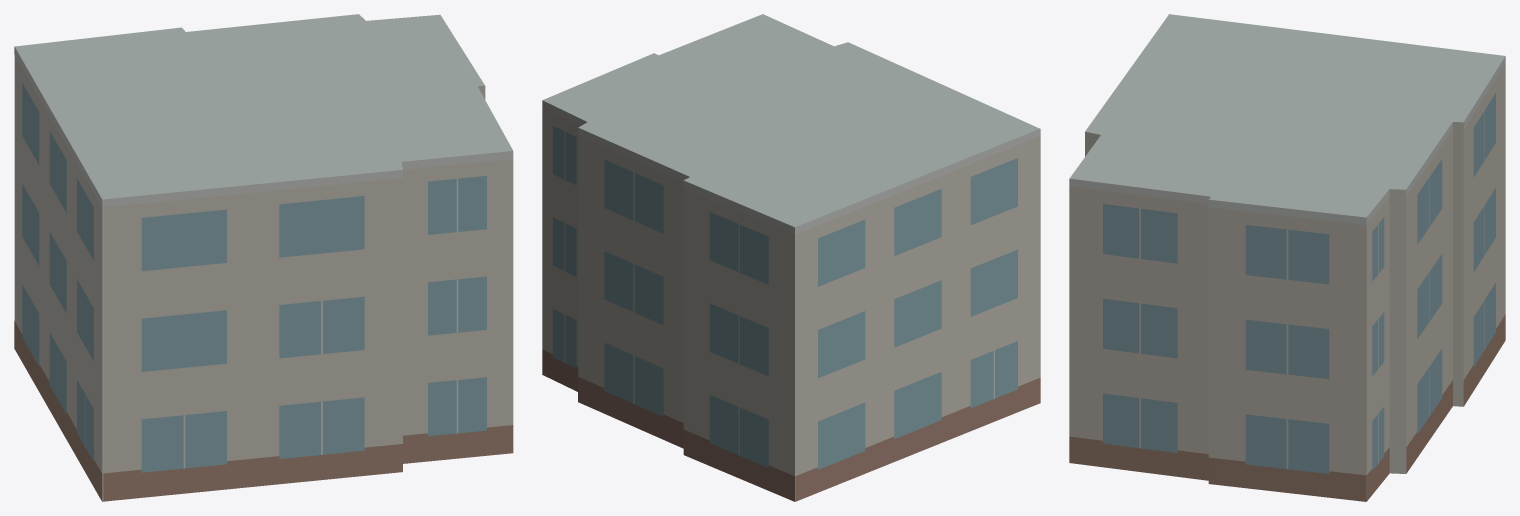
File: survey-upis-32508817.glb
3 renders of one model, left to right at view 1: azimuth 30°, elevation 25°; view 2: azimuth 150°, elevation 25°; view 3: azimuth 270°, elevation 25°, orthographic. The views are drawn at different scales.
Parts seen in each view (by area): view 1: survey-upis-32508817.tmp; view 2: survey-upis-32508817.tmp; view 3: survey-upis-32508817.tmp.
Part boxes in pixels (x1=…): survey-upis-32508817.tmp: x1=14, y1=14, x2=513, y2=501; survey-upis-32508817.tmp: x1=542, y1=14, x2=1040, y2=501; survey-upis-32508817.tmp: x1=1069, y1=14, x2=1505, y2=501.
Size of the model in its own units: 14.06 by 9.15 by 12.73.
